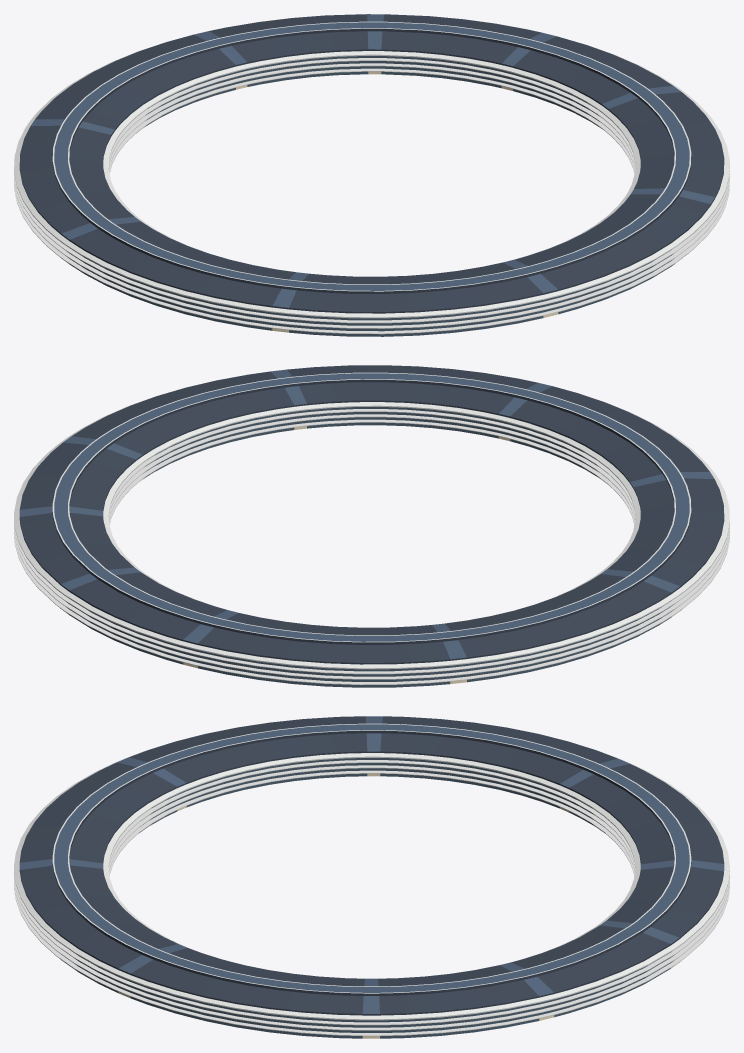
The model's file is sf-apple-park.glb.
The picture shows the model from 3 angles, top to bottom: view 1: azimuth 30°, elevation 25°; view 2: azimuth 150°, elevation 25°; view 3: azimuth 270°, elevation 25°; orthographic projection.
Visible parts, largest first — view 1: Apple Park; view 2: Apple Park; view 3: Apple Park.
Boxes of the visible parts, left/top/right/bottom form: Apple Park: left=14, top=14, right=729, bottom=336; Apple Park: left=14, top=365, right=729, bottom=687; Apple Park: left=14, top=716, right=729, bottom=1038.
Bounding box in the file's own units: 471 × 22.75 × 471.
